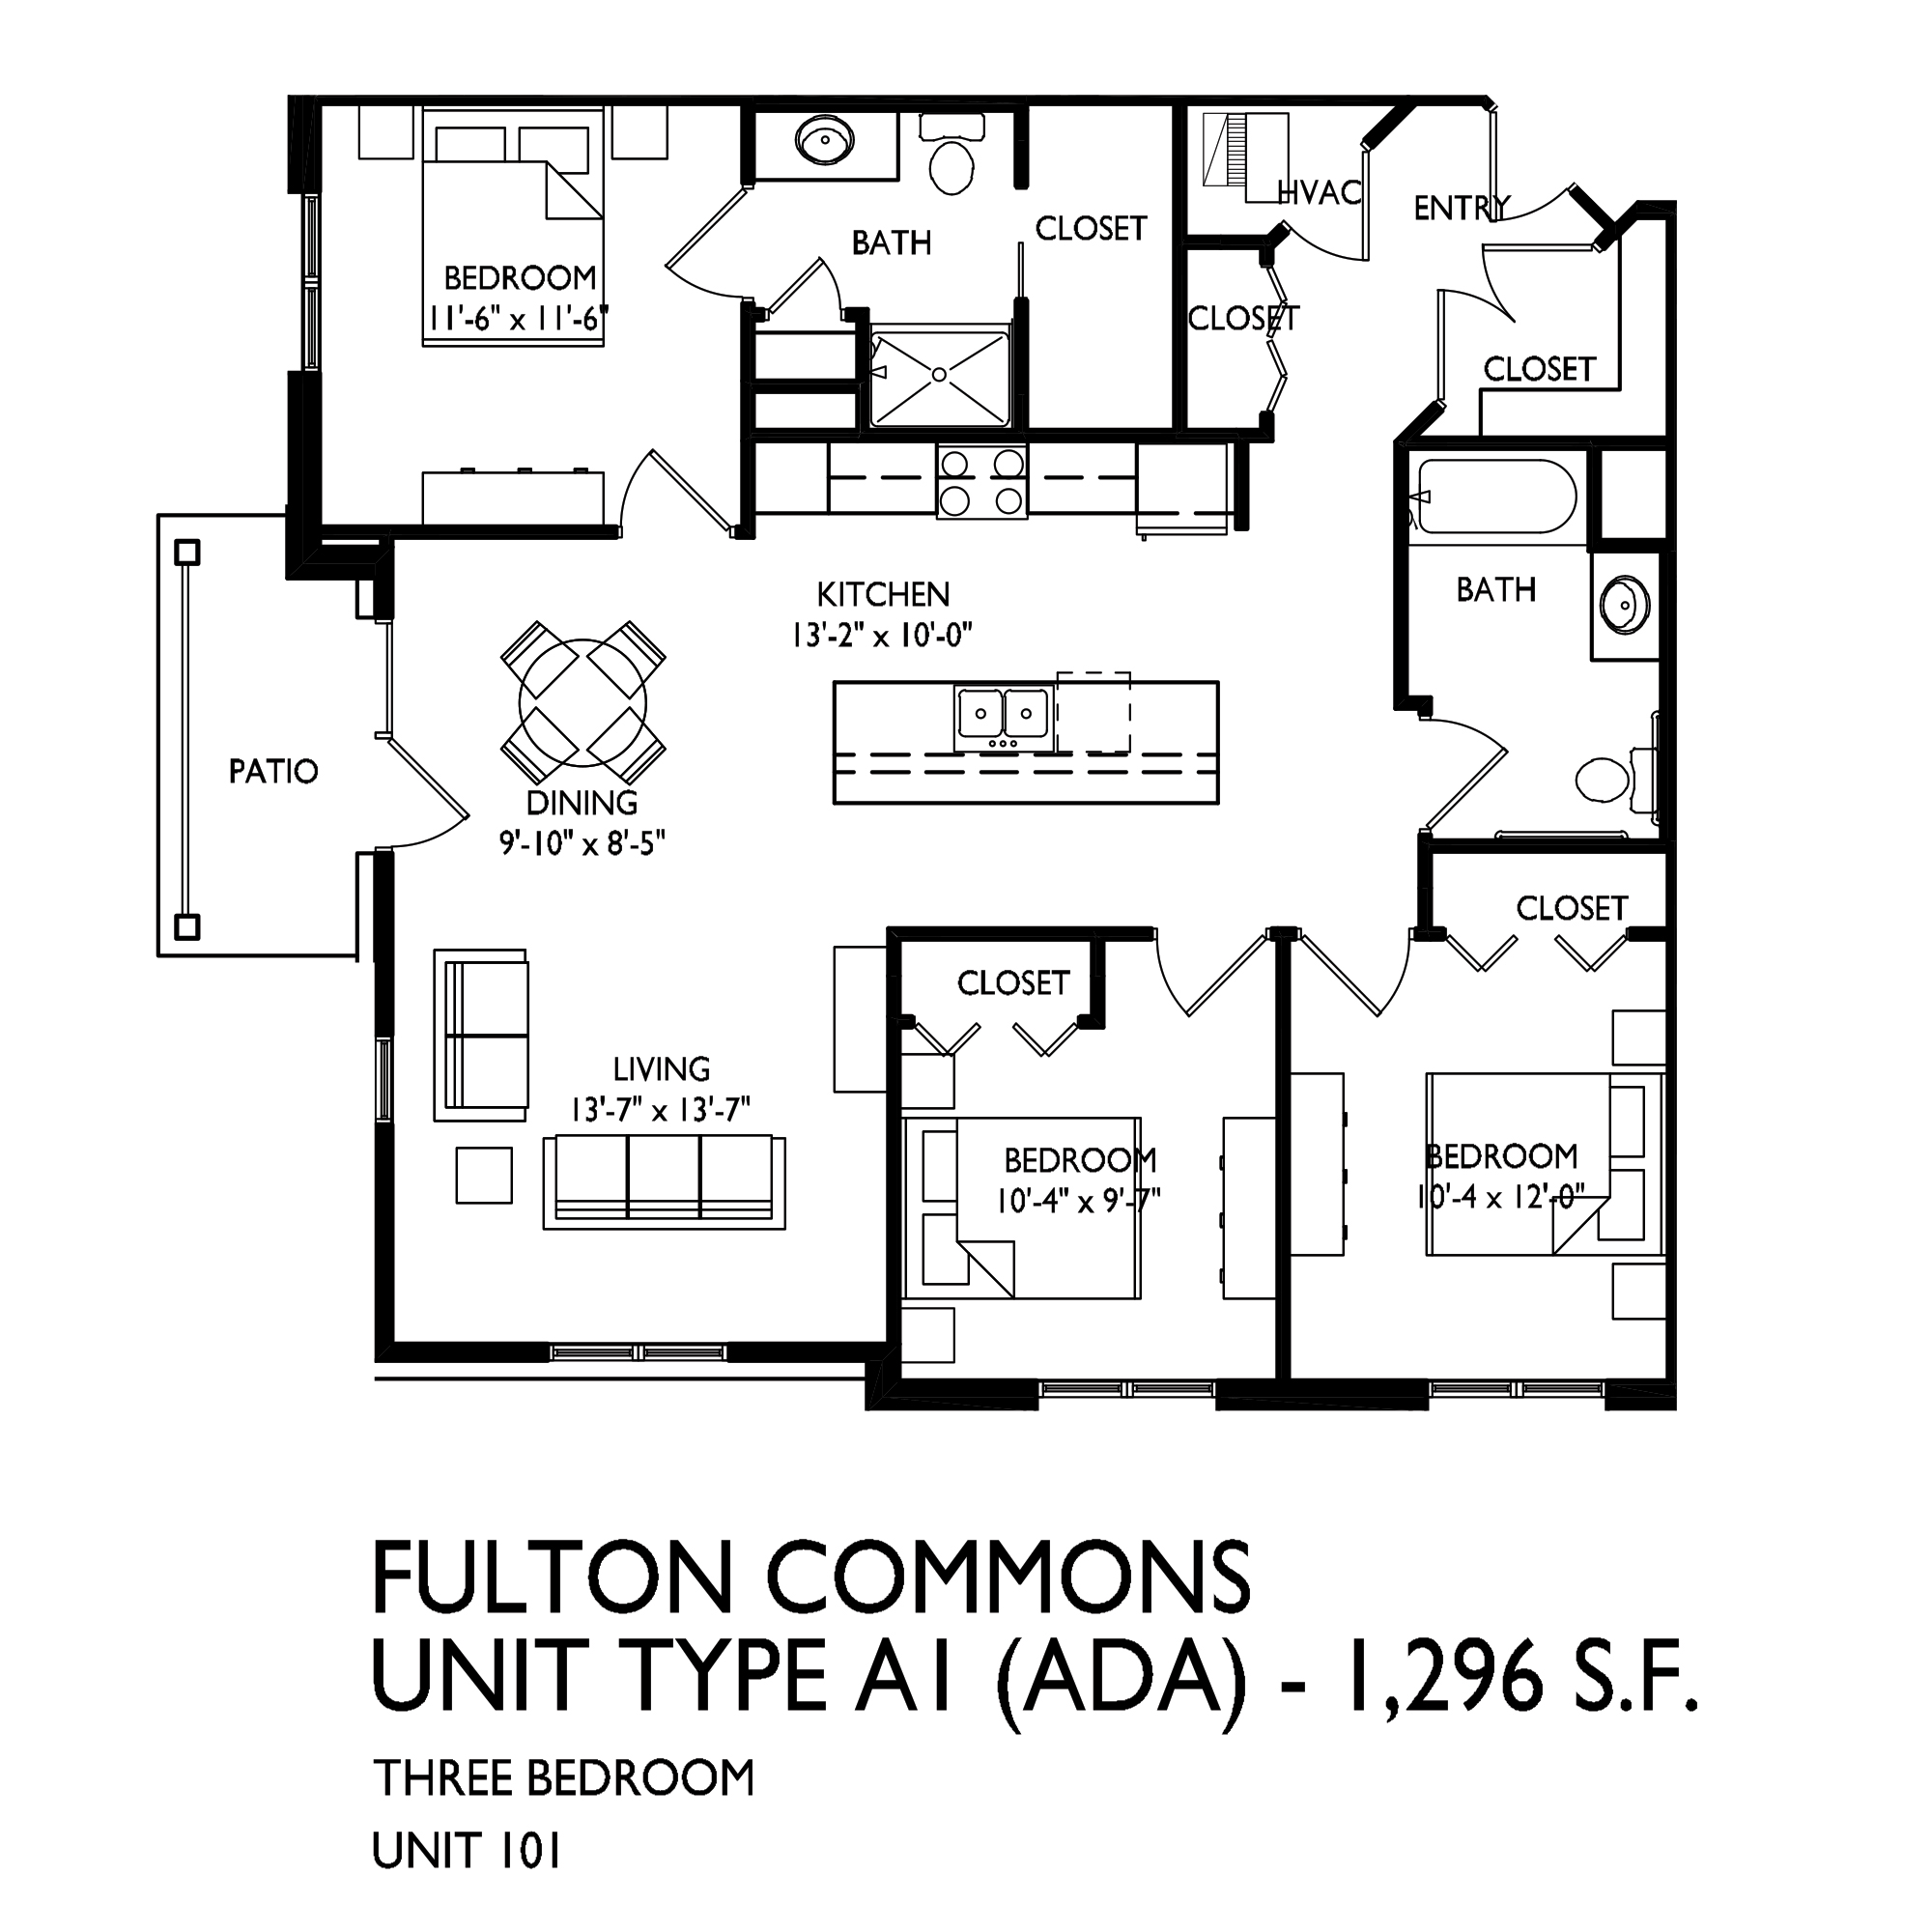window: (288, 193, 322, 373), (1035, 1376, 1219, 1401), (1424, 1376, 1608, 1401), (547, 1341, 729, 1364), (373, 1035, 396, 1127)
